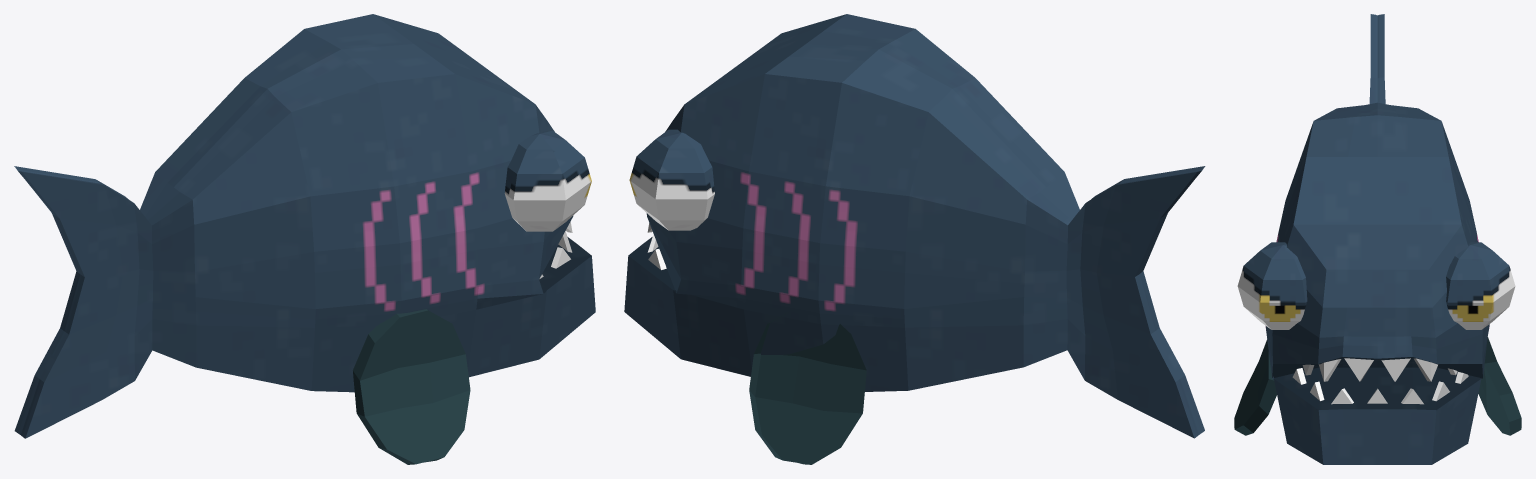
Rendered from PiranhaFR.fbx.
3 views of the same model, side by side, from view 1: azimuth 30°, elevation 25°; view 2: azimuth 150°, elevation 25°; view 3: azimuth 270°, elevation 25° (orthographic). The views are drawn at different scales.
Parts seen in each view (by area): view 1: Piranha 2, fin L.001, Sphere.007; view 2: Piranha 2, fin L.002, Sphere.008; view 3: Piranha 2, Sphere.007, Sphere.008, fin L.002, fin L.001, Cube, Cube.001.
Boxes of the visible parts, x1,y1,x2,y2 form: Piranha 2: (14,14,595,438); fin L.001: (353,309,470,464); Sphere.007: (504,130,591,231); Piranha 2: (624,14,1205,438); fin L.002: (749,311,866,464); Sphere.008: (629,129,714,230); Piranha 2: (1265,14,1489,464); Sphere.007: (1237,242,1307,329); Sphere.008: (1446,242,1515,329); fin L.002: (1478,337,1521,435); fin L.001: (1234,339,1276,435); Cube: (1302,358,1457,381); Cube.001: (1292,368,1468,404).
Size of the model in its own units: 51.15 by 32.2 by 26.83.
2 materials, 1 textured.
